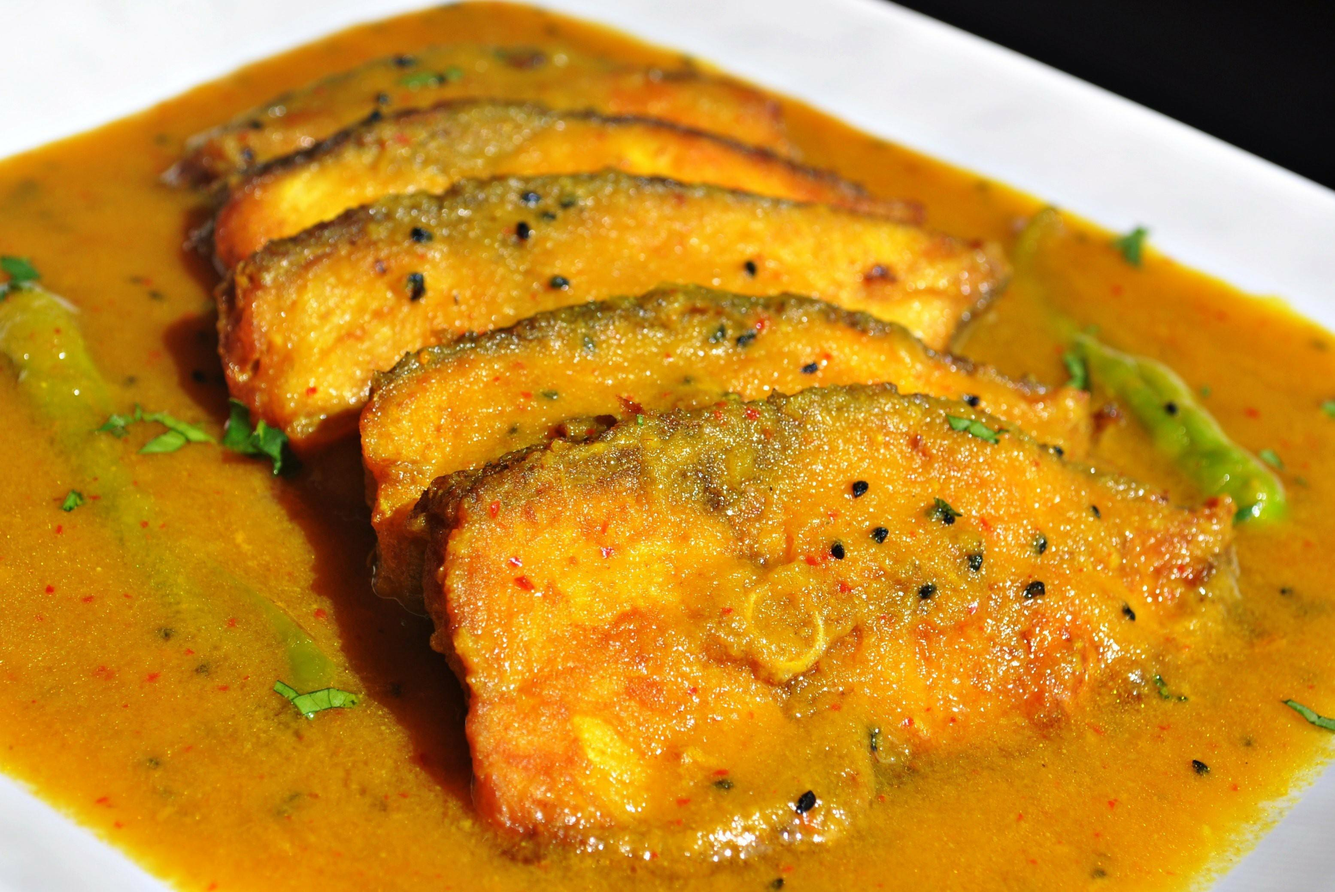FishCurry: (3, 1, 1335, 892)
